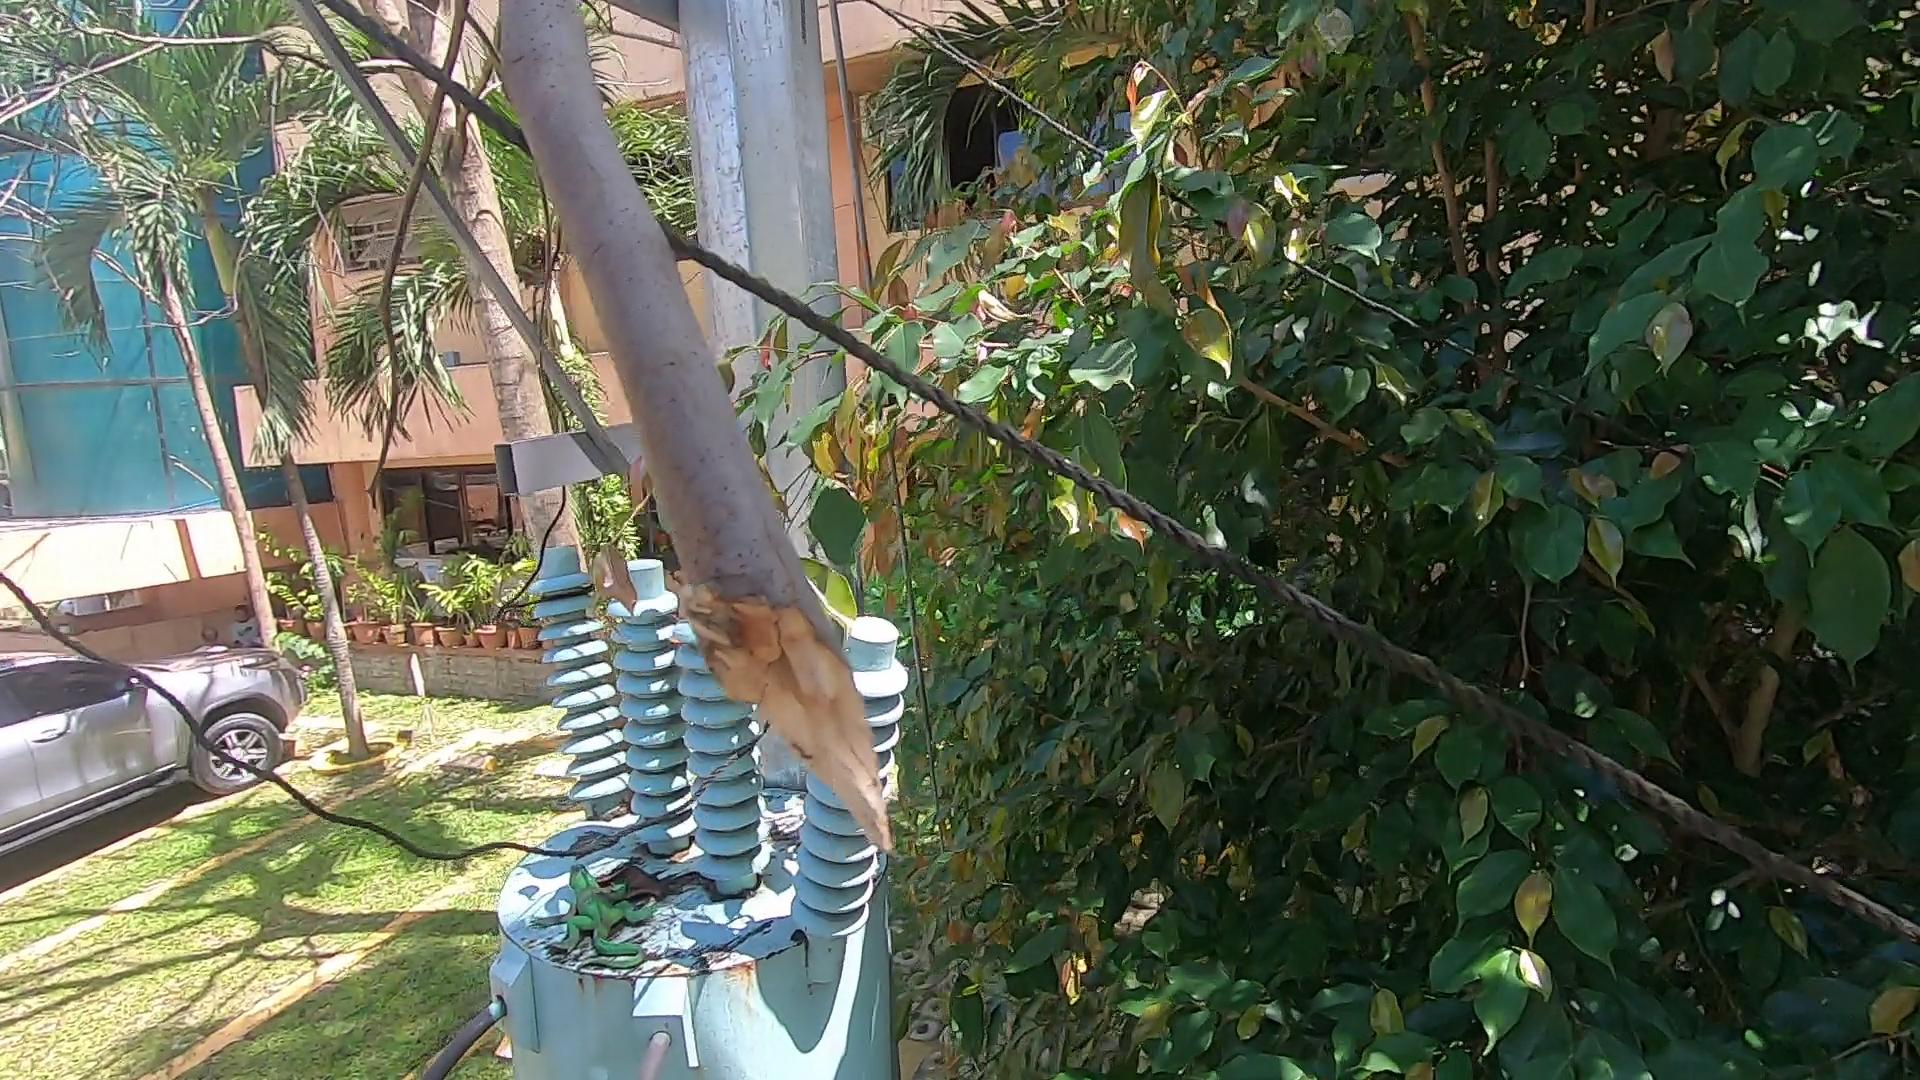branch with leaves: (709, 351, 893, 622)
leaf: (566, 516, 651, 632), (599, 849, 709, 907), (587, 789, 629, 825)
tree branch: (465, 5, 920, 849)
